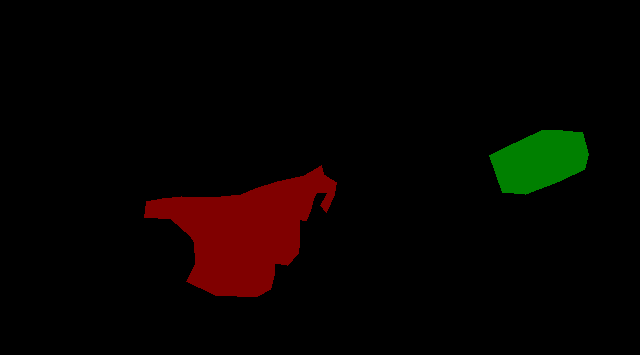fire: (144, 165, 336, 296), (489, 130, 588, 194)
